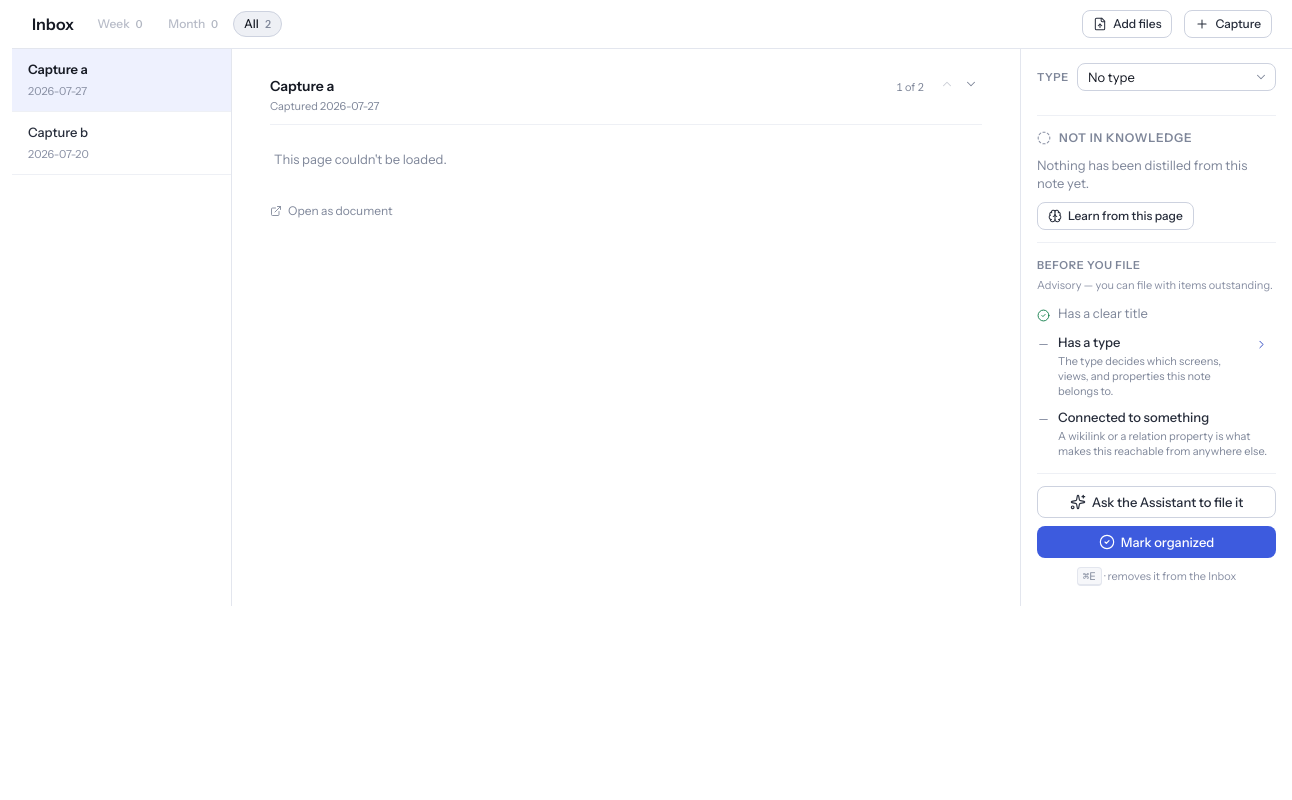
Test: InboxPage › offers an undo after filing, and it returns the note to the queue
Click the button "Mark organized": (1156, 542) [1037, 526, 1276, 558]
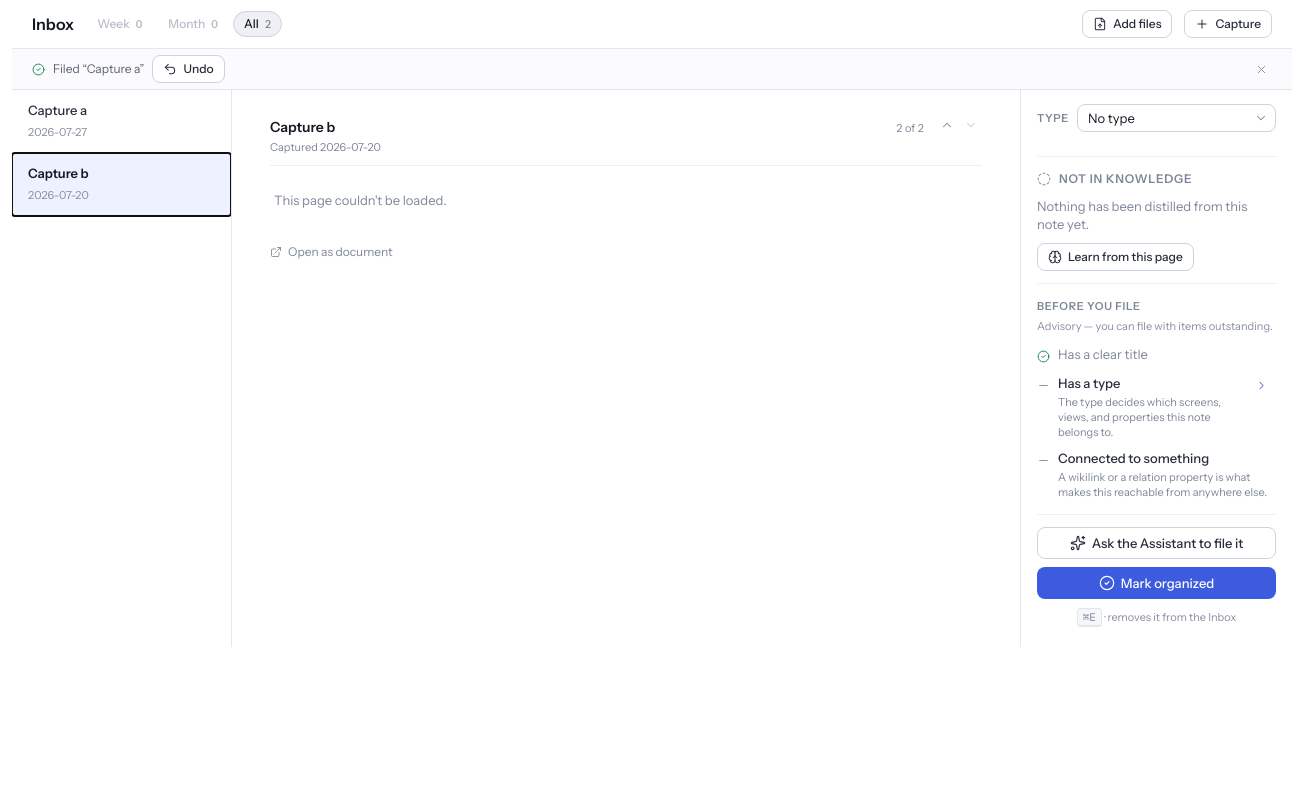
Expected: the element with test id "inbox-undo" shows "Capture a", [87, 61, 140, 76]
Click the button "Undo": (189, 69) [152, 55, 225, 83]
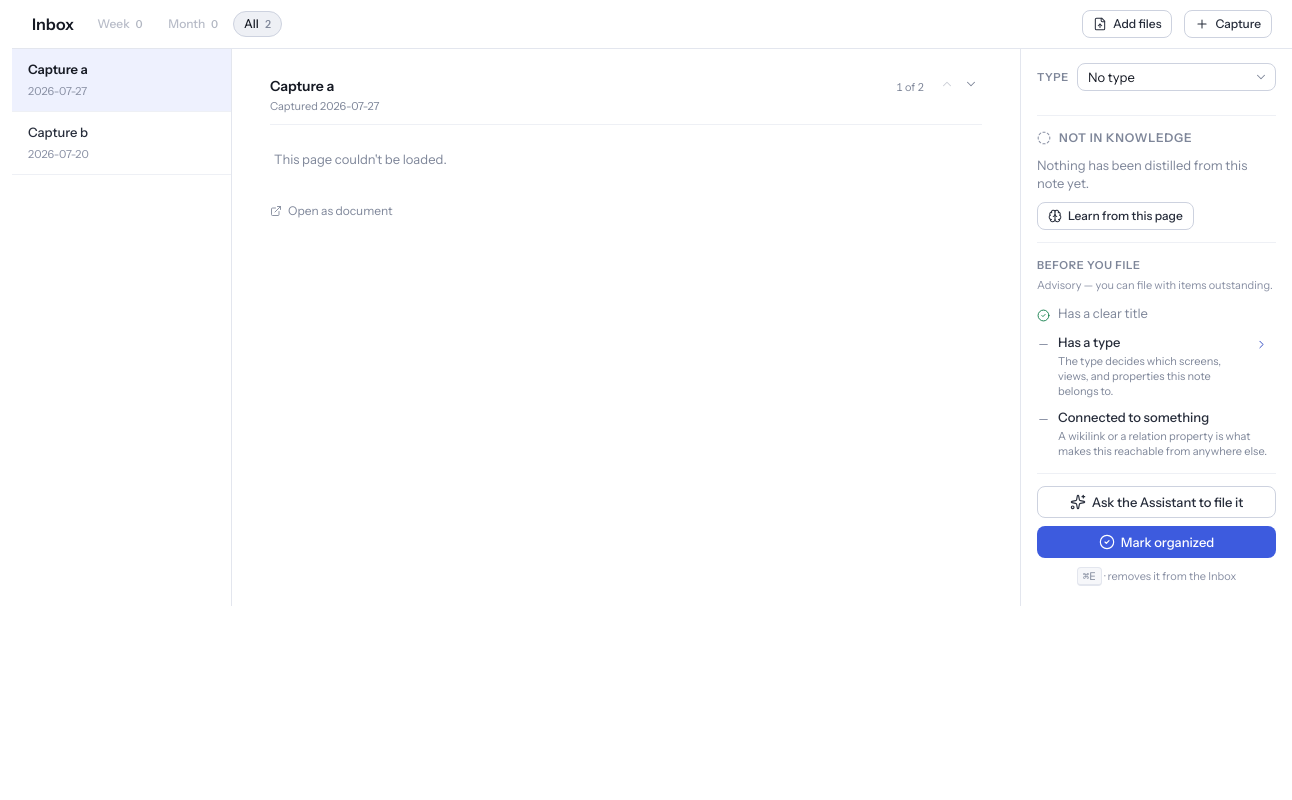
Expected: the element with test id "inbox-undo" is gone
